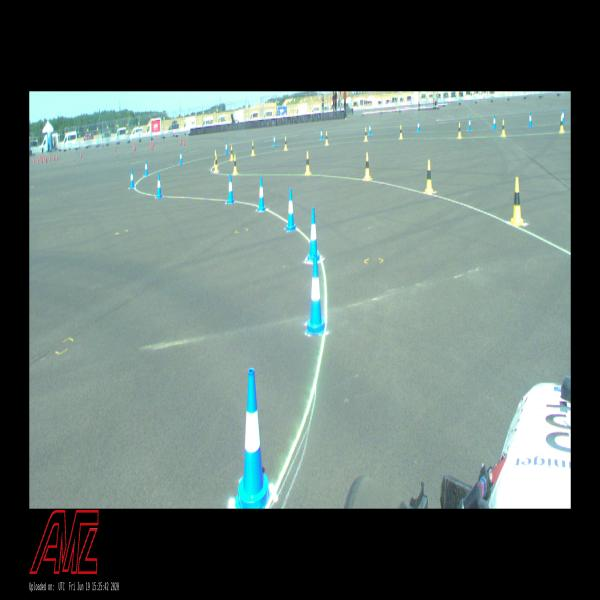blue_cone: (235, 369, 272, 509), (306, 254, 325, 334), (306, 208, 320, 262), (286, 189, 296, 232), (258, 177, 266, 212), (227, 173, 234, 203), (156, 173, 162, 198), (130, 168, 134, 188), (144, 159, 148, 177), (561, 109, 565, 124), (179, 151, 183, 164), (529, 112, 532, 127), (493, 115, 496, 129), (225, 141, 228, 154), (468, 117, 471, 130), (417, 120, 420, 132), (273, 134, 276, 146), (320, 129, 323, 140), (369, 124, 371, 134)
yellow_cone: (511, 176, 523, 226), (425, 160, 433, 193), (364, 152, 371, 181), (305, 150, 310, 174), (232, 155, 238, 174), (213, 149, 218, 168), (501, 119, 506, 136), (214, 154, 218, 173), (458, 122, 462, 138), (560, 116, 564, 132), (399, 124, 403, 139), (251, 141, 255, 156), (284, 136, 288, 150), (230, 145, 233, 160), (325, 131, 328, 146), (364, 126, 367, 141)
